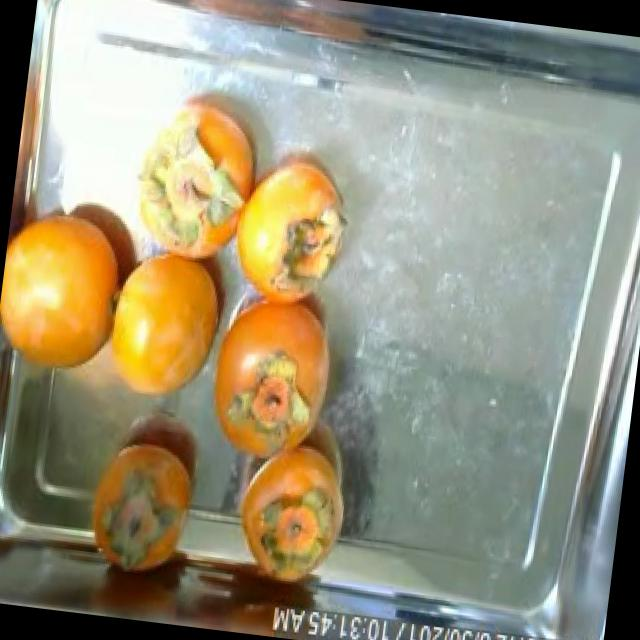Fruit: (0, 182, 149, 401)
